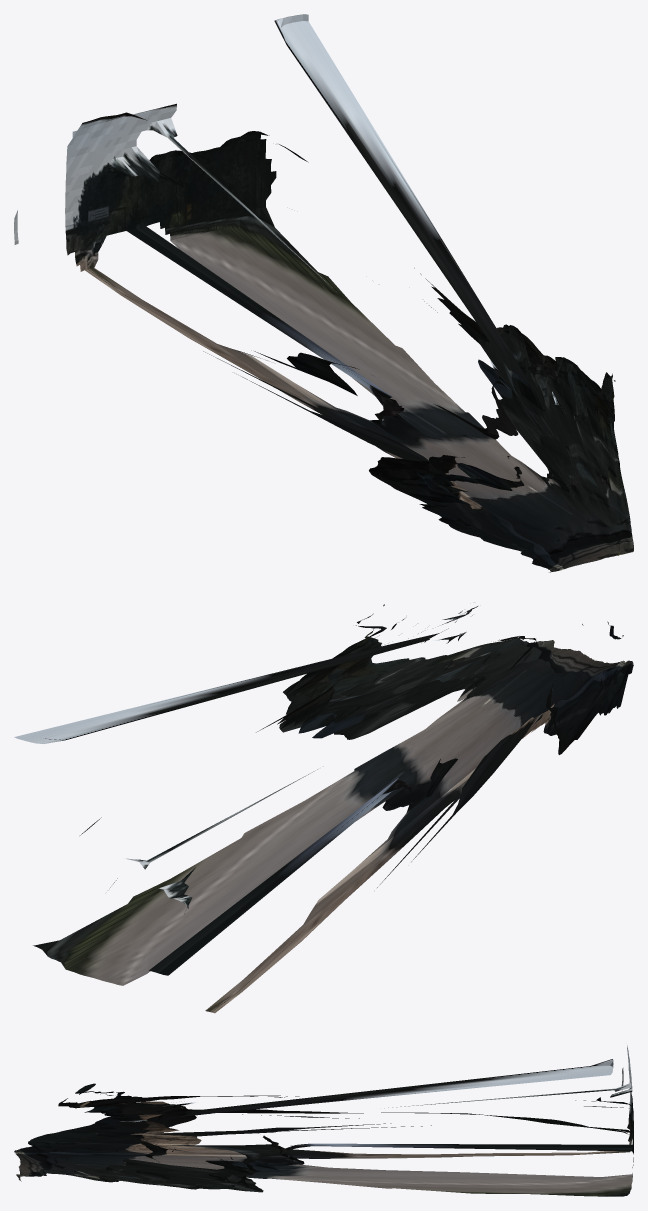
The picture shows the model from 3 angles, top to bottom: view 1: azimuth 30°, elevation 25°; view 2: azimuth 150°, elevation 25°; view 3: azimuth 270°, elevation 25°; orthographic projection. The views are drawn at different scales.
Parts seen in each view (by area): view 1: defaultobject; view 2: defaultobject; view 3: defaultobject.
Part boxes in pixels (x1,y1,x2,y2): defaultobject: (14,14,633,572); defaultobject: (14,604,633,1013); defaultobject: (14,1045,633,1196).
Bounding box in the file's own units: 16.71 × 12.14 × 44.61.
1 material, 1 textured.
